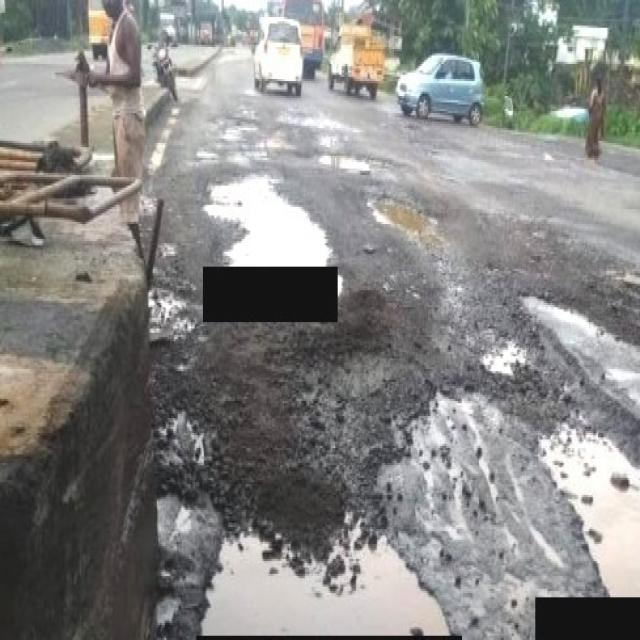road-pothole: (195, 500, 460, 638), (526, 408, 639, 598), (511, 286, 639, 414), (198, 158, 331, 270), (368, 186, 447, 258), (315, 149, 377, 177)
